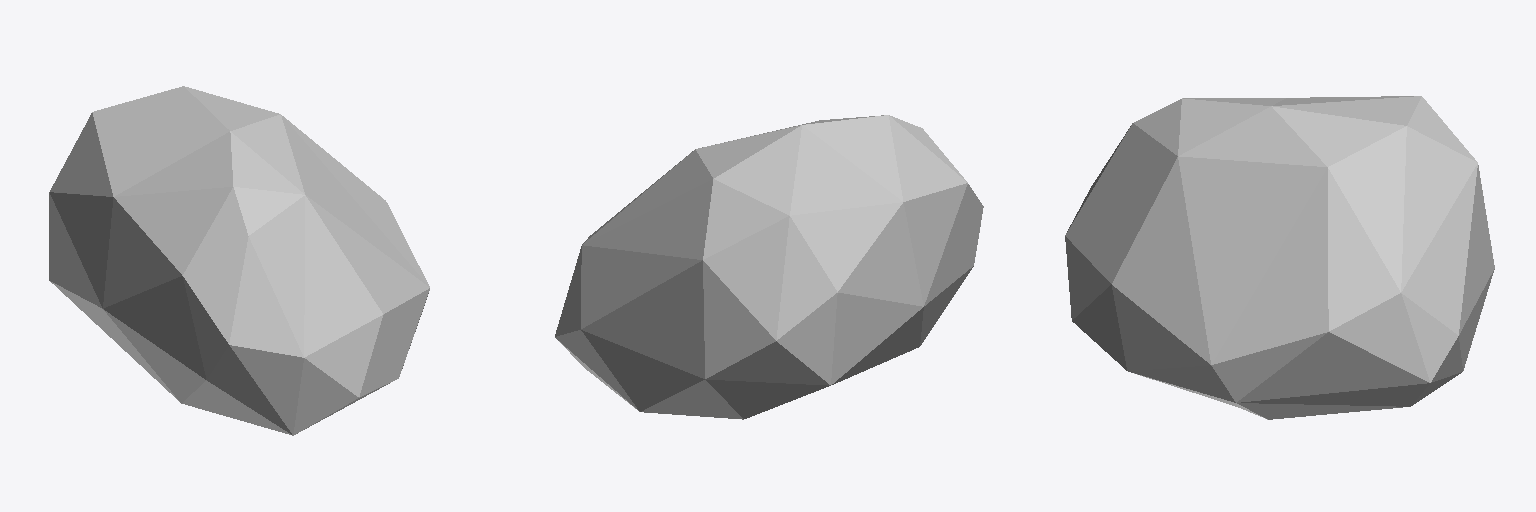
Rendered from Rock1.obj.
The picture shows the model from 3 angles: view 1: azimuth 30°, elevation 25°; view 2: azimuth 150°, elevation 25°; view 3: azimuth 270°, elevation 25°; orthographic projection.
Parts seen in each view (by area): view 1: rock.001; view 2: rock.001; view 3: rock.001.
Part boxes in pixels (x1,y1,x2,y2): rock.001: (49,86,429,435); rock.001: (555,115,983,419); rock.001: (1065,96,1494,419).
Size of the model in its own units: 1.25 by 1.05 by 1.51.